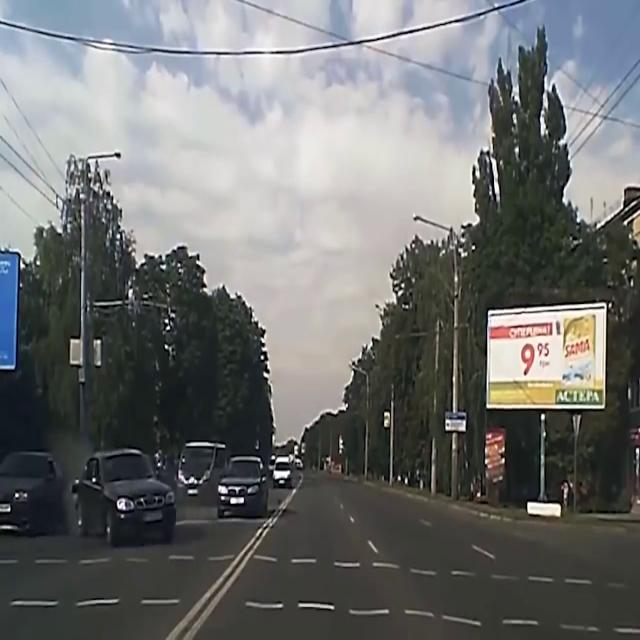multiple_accident: (0, 433, 269, 553)
